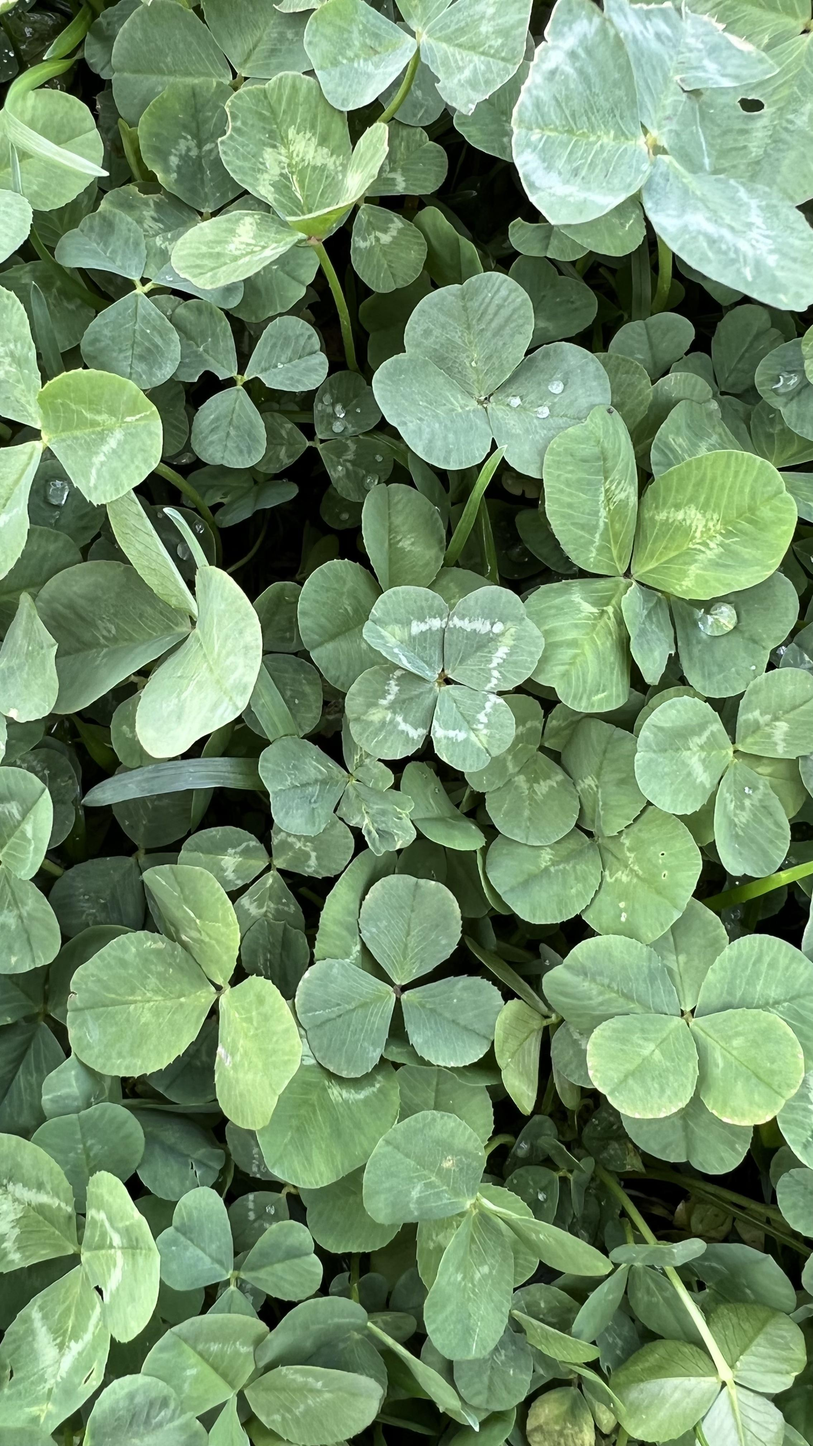4-Leaf-Clovers: (330, 474, 432, 832)
